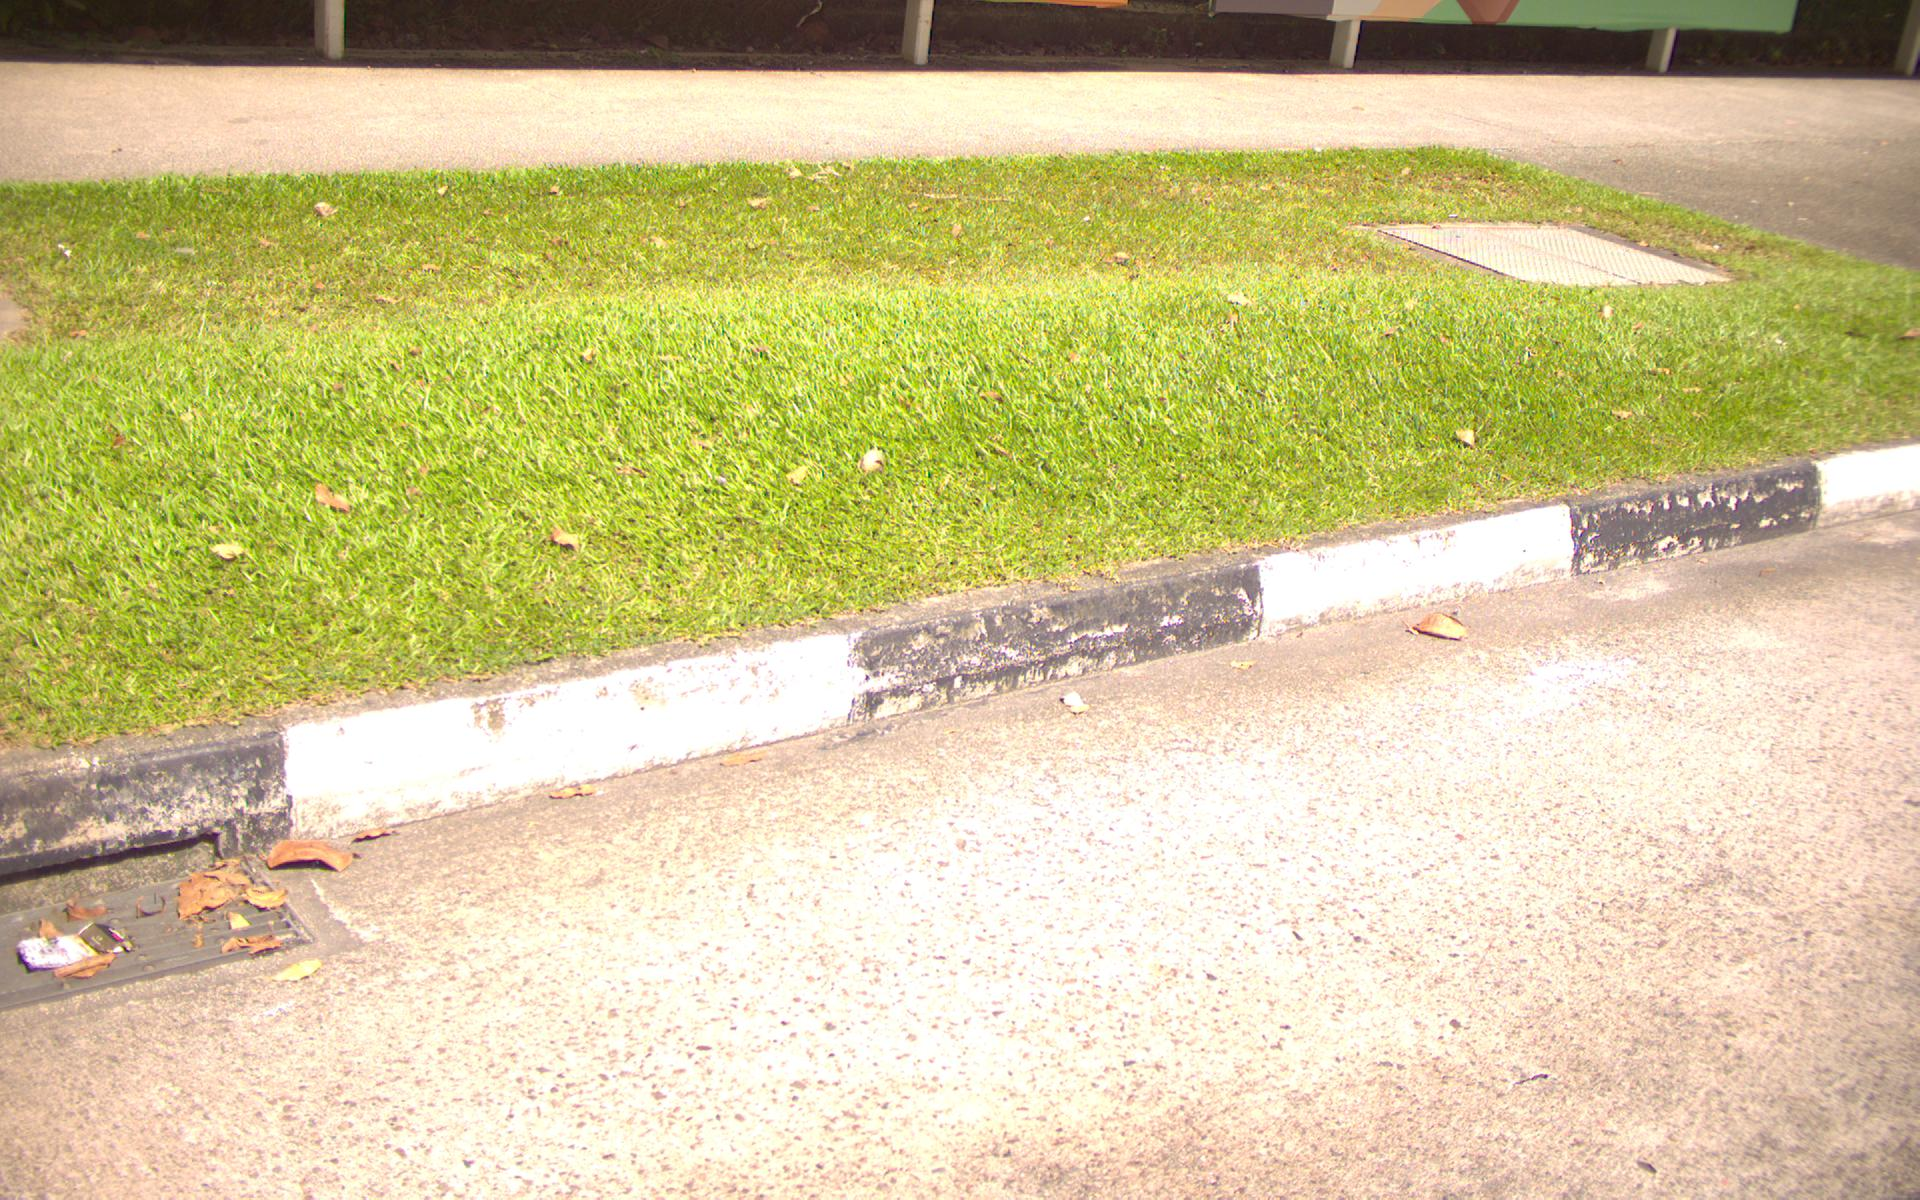pathway_low: (467, 795, 1920, 1199), (10, 71, 1917, 142), (1, 834, 341, 1038)
road_turf_low: (8, 184, 1371, 523)
